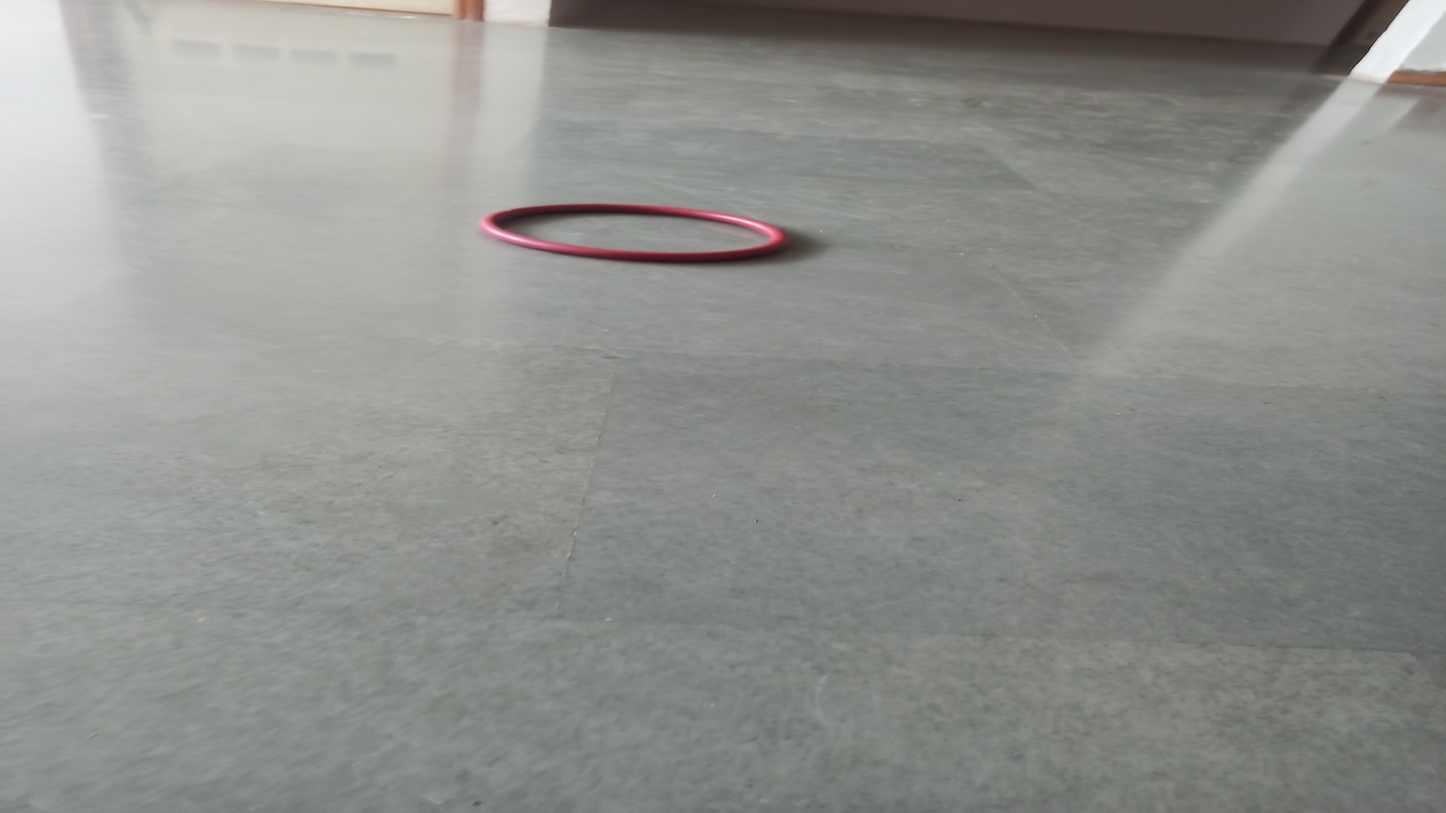Red ring: (481, 202, 782, 269)
